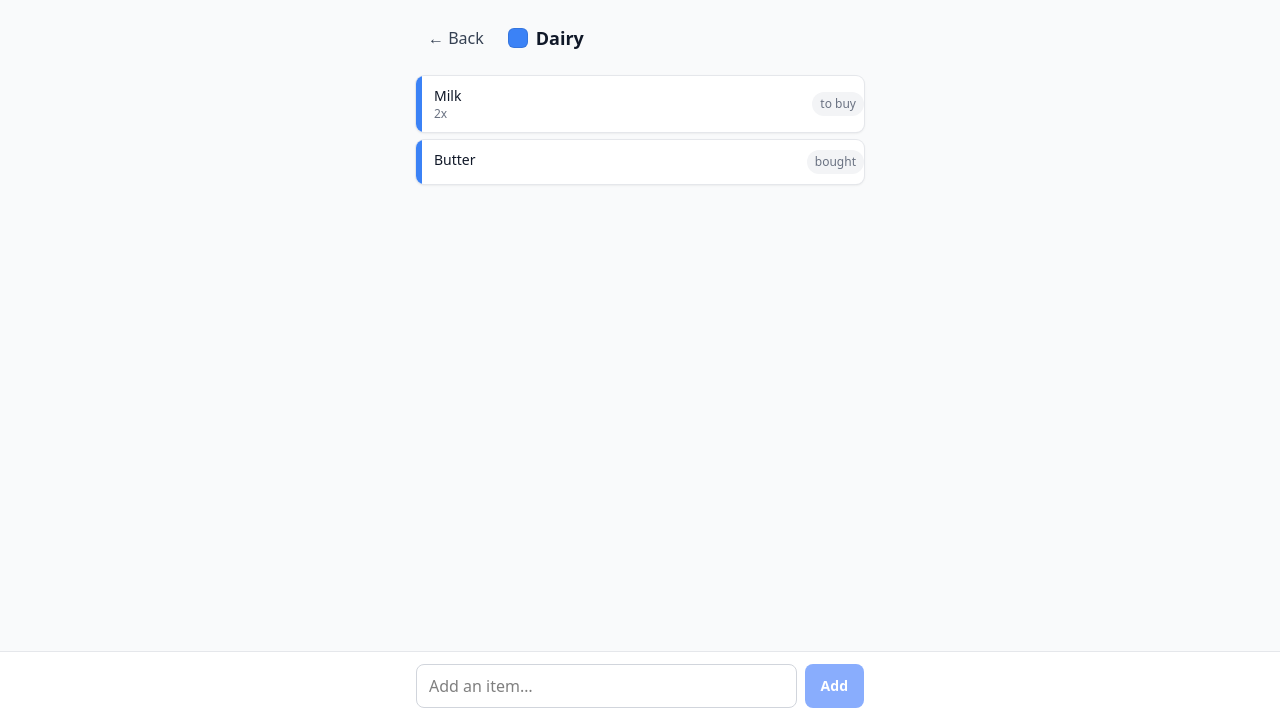
it: CategoryItemsPage add-from-category bar (docs/TASKS.md → T43) › shows an error and keeps the popover open when the create fails
Check: the list item with test id "category-item-i1" is shown, box [416,76,864,132]
Type "Yogurt" into the field named "Add item" at (606, 686), box [416,664,797,708]
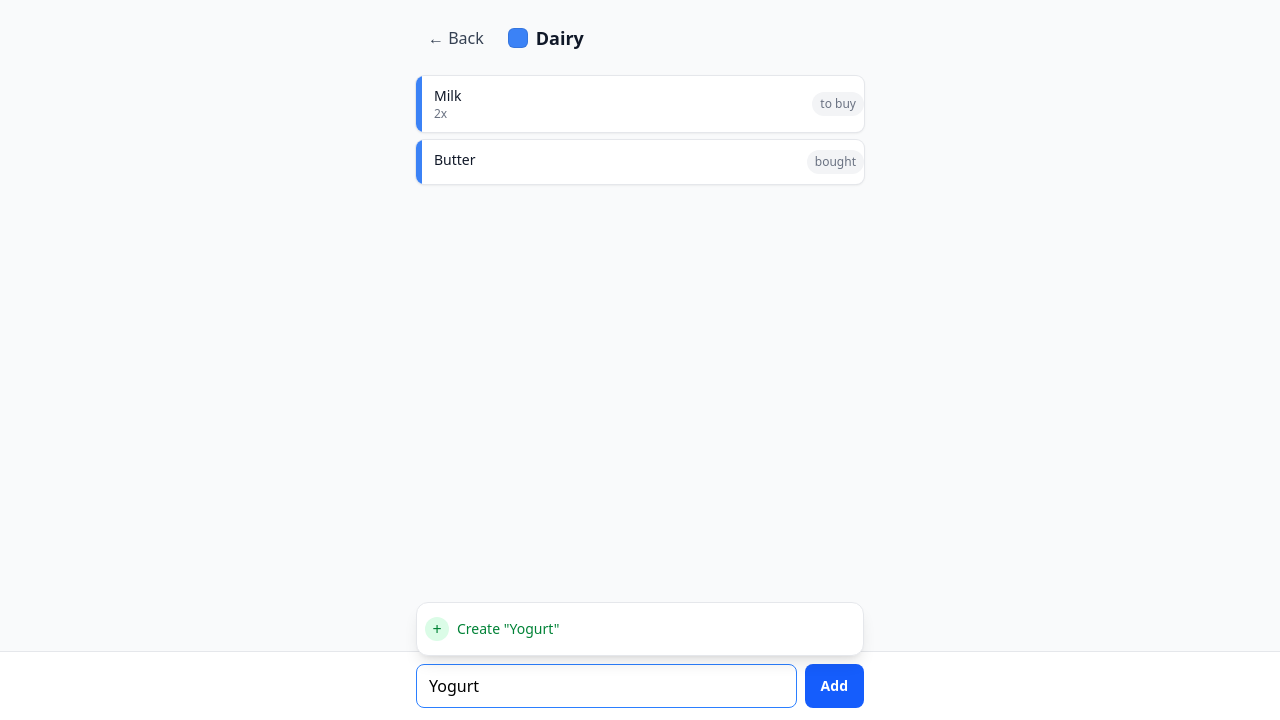
Click the button with test id "create-item-row" at (483, 628), box [421,607,859,651]
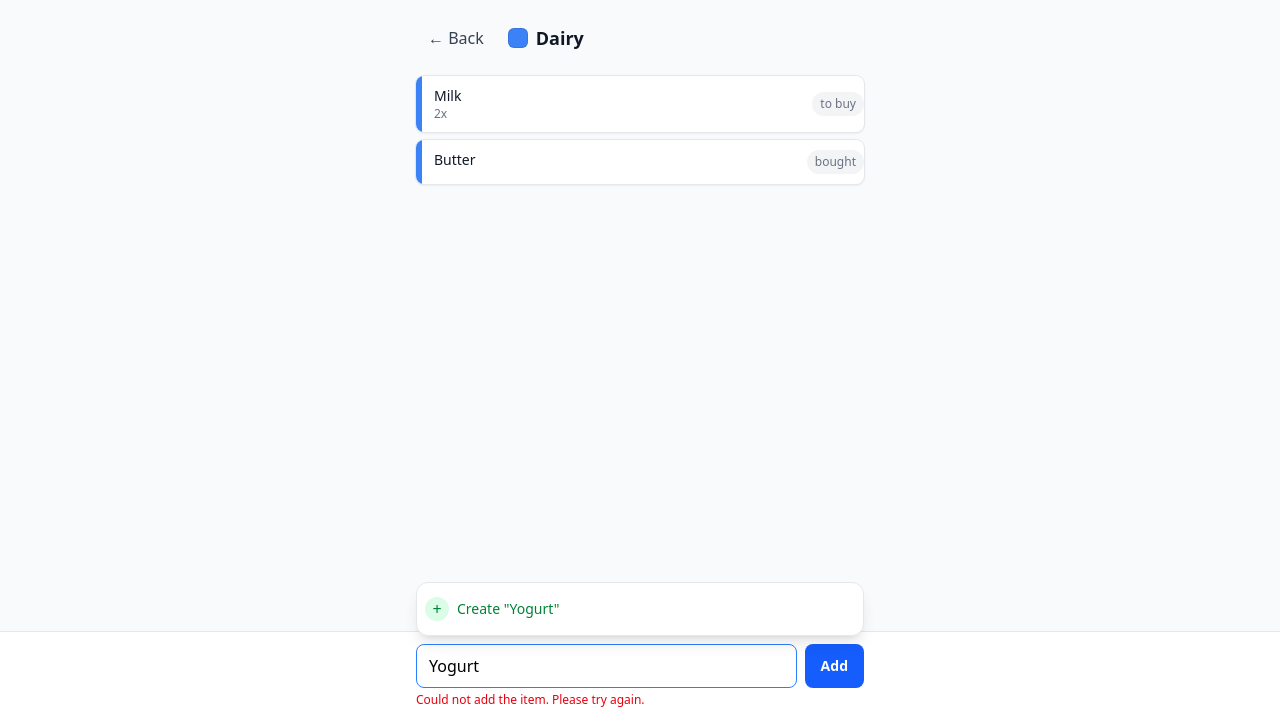
Check: the element with test id "suggestions-popover" is shown, box [416,582,864,636]
Check: the button with test id "create-item-row" is shown, box [421,587,859,631]
Check: the message shows "Could not add the item.", box [416,691,645,708]
